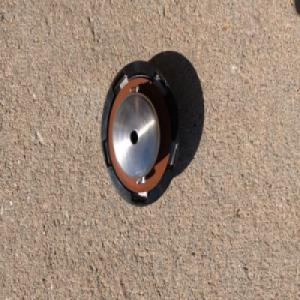FuelCap: (98, 58, 182, 208)
